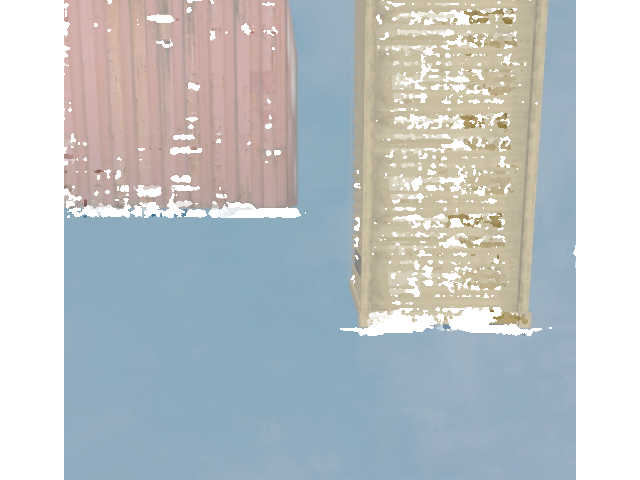container3: (346, 0, 553, 334)
container4: (0, 0, 307, 217)
